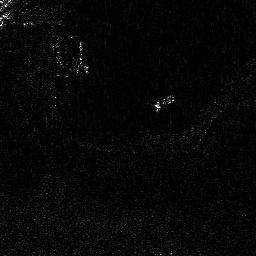ship: (151, 93, 178, 108)
